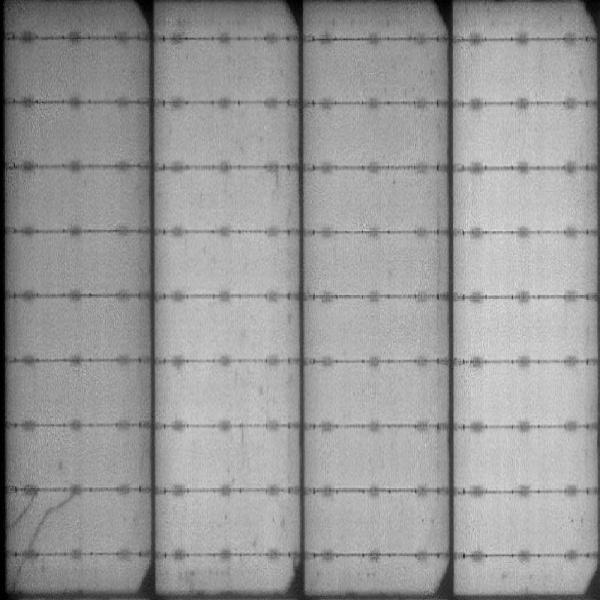scratch: (35, 494, 76, 549), (9, 497, 32, 533), (11, 559, 27, 587)
